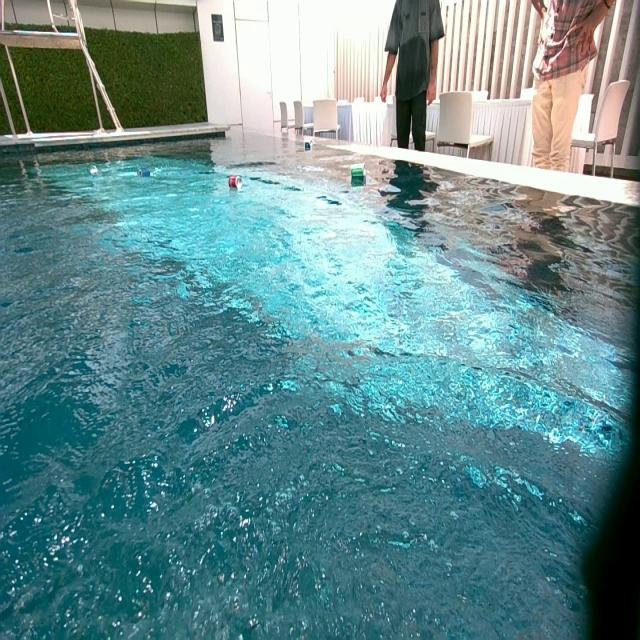Cans: (350, 166, 366, 182), (230, 176, 242, 190), (138, 167, 152, 178), (91, 165, 101, 178), (305, 140, 313, 150)
